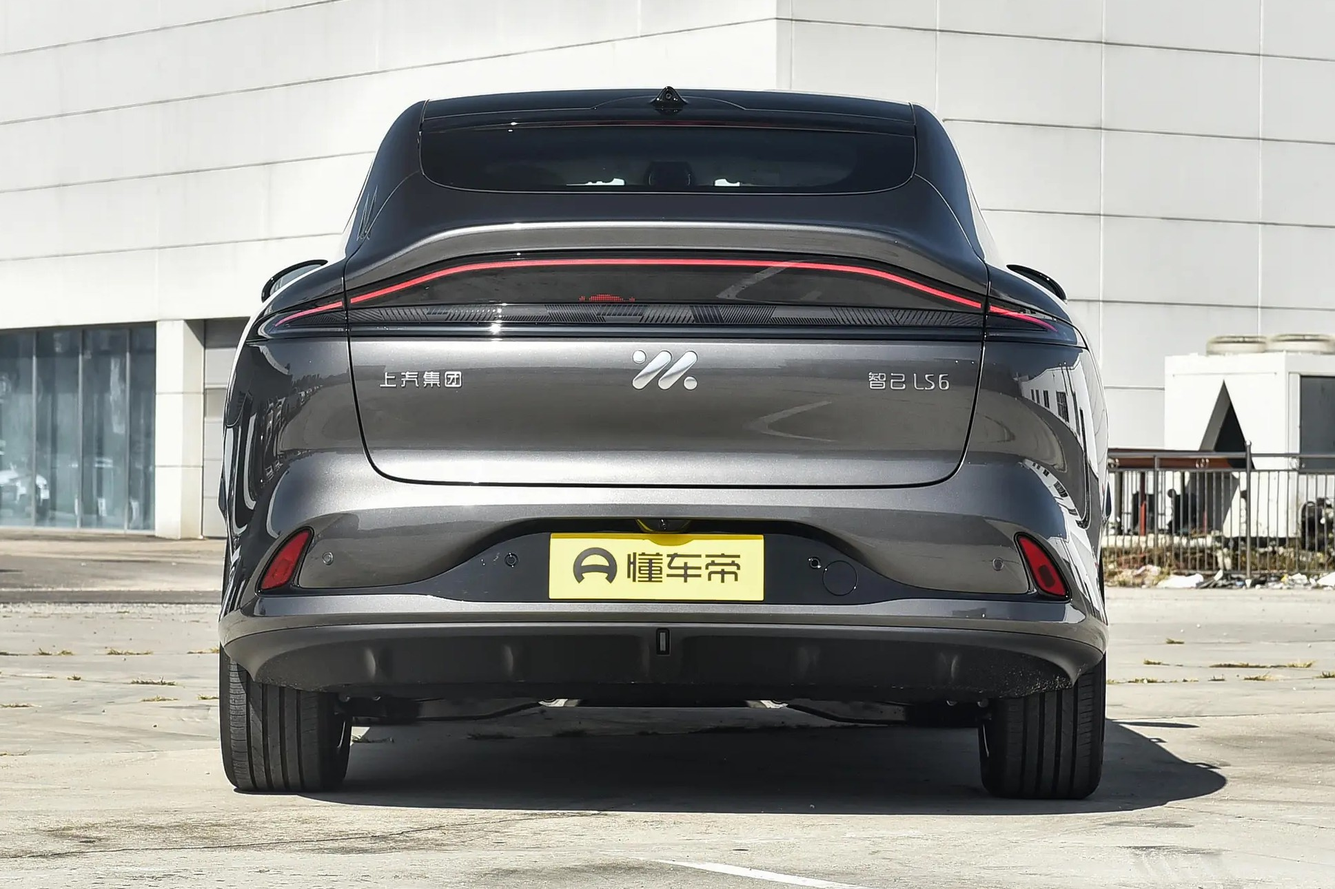IM: (632, 351, 697, 390)
